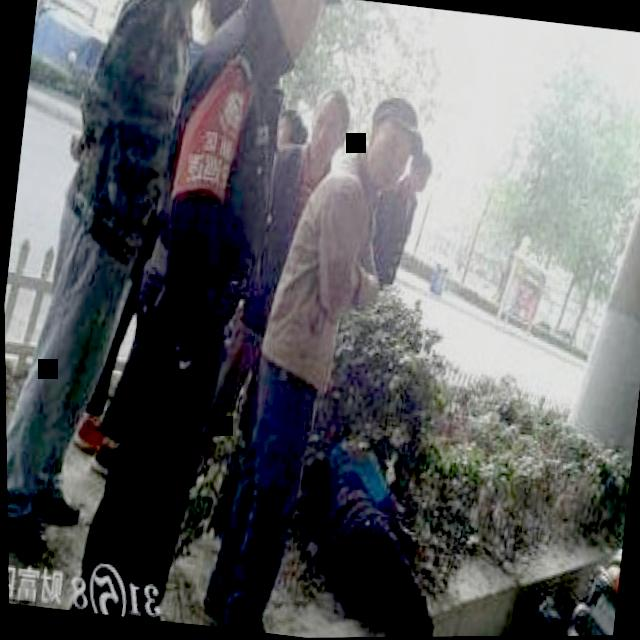Fall-Detected: (283, 395, 497, 638)
